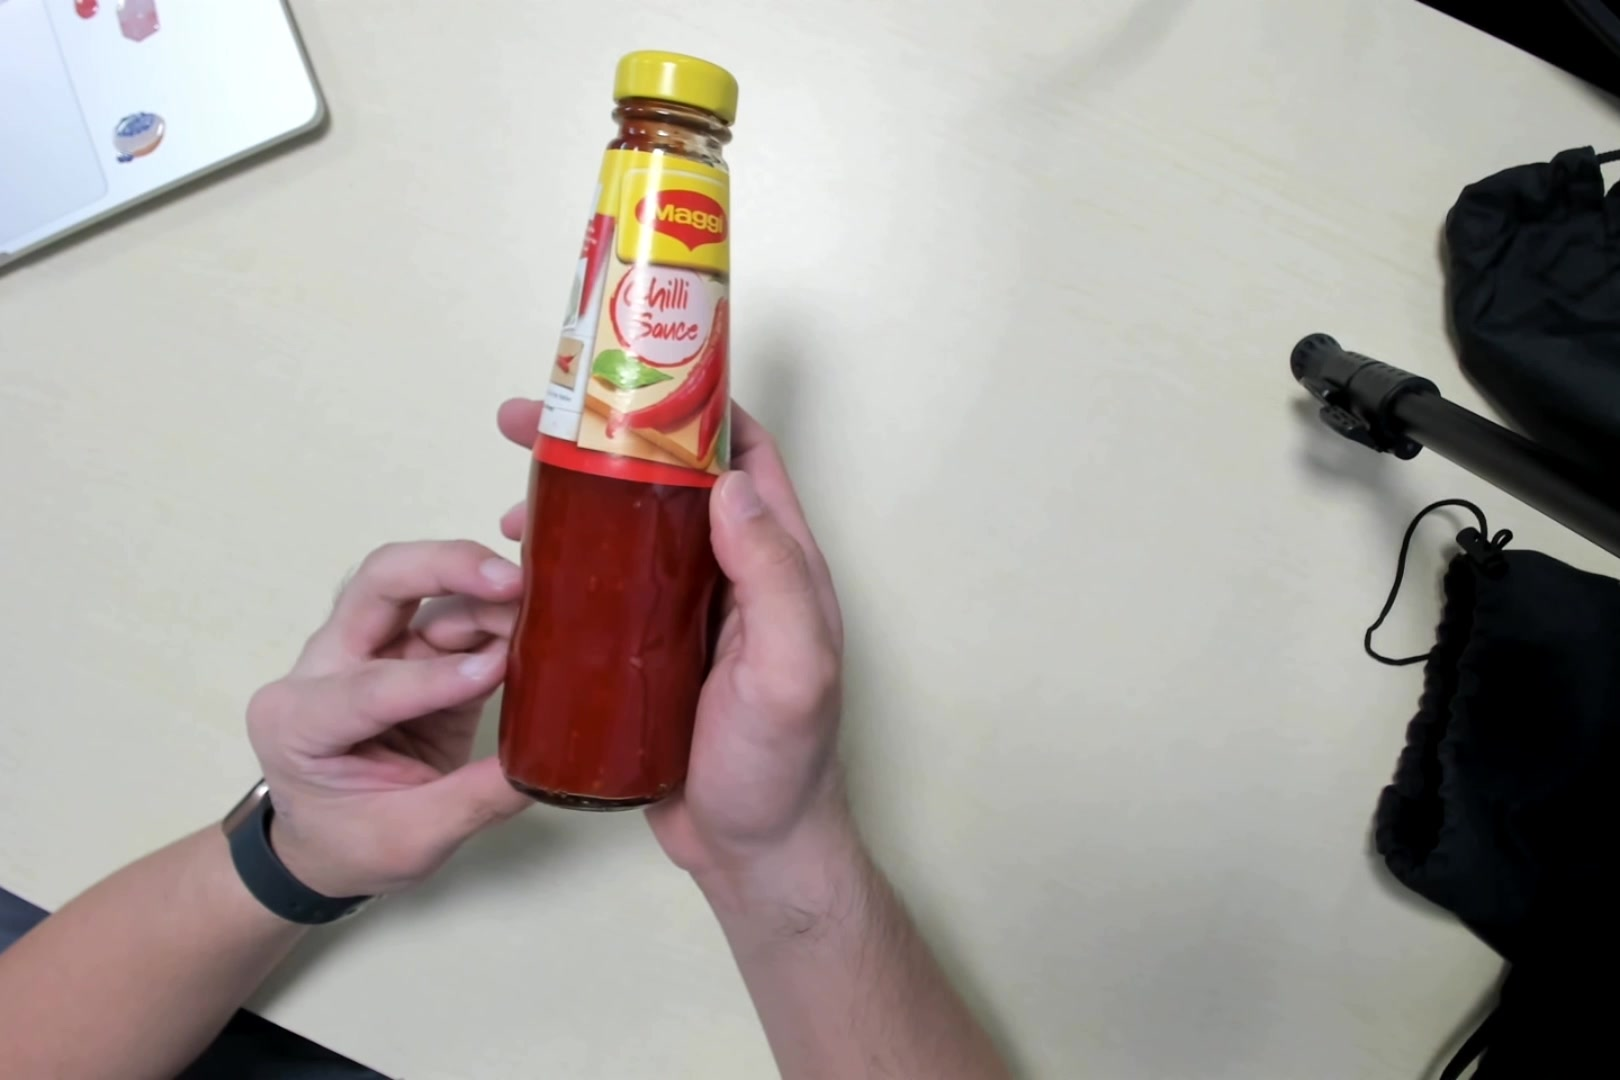KetchupChillSauce_300-399g_Halal_NonHealthy: (498, 47, 738, 814)
